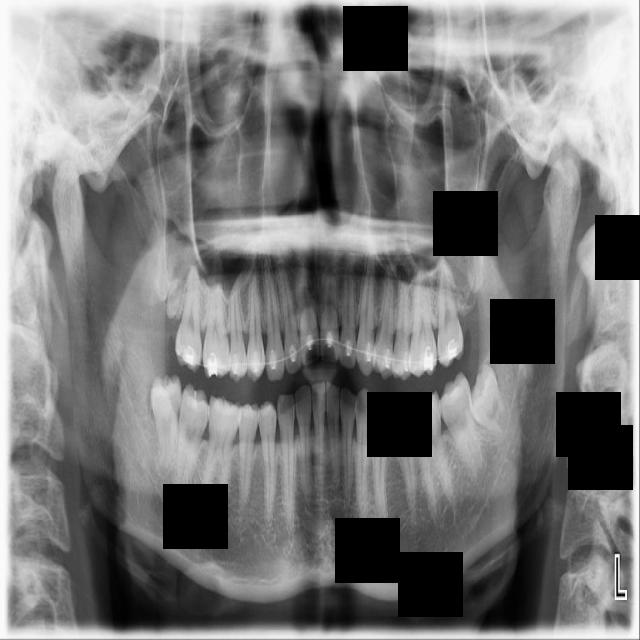3M ESPE Implant: (163, 275, 186, 321)
73: (620, 614, 628, 622)
BioHorizons Implant: (437, 251, 464, 369)
Biomet 3i Implant: (458, 361, 512, 440)
Blue Sky Bio Implant: (433, 370, 487, 488)
Caries: (174, 255, 203, 374)
Implant: (169, 382, 213, 498)
Keystone Dental Implant: (150, 374, 181, 476)
